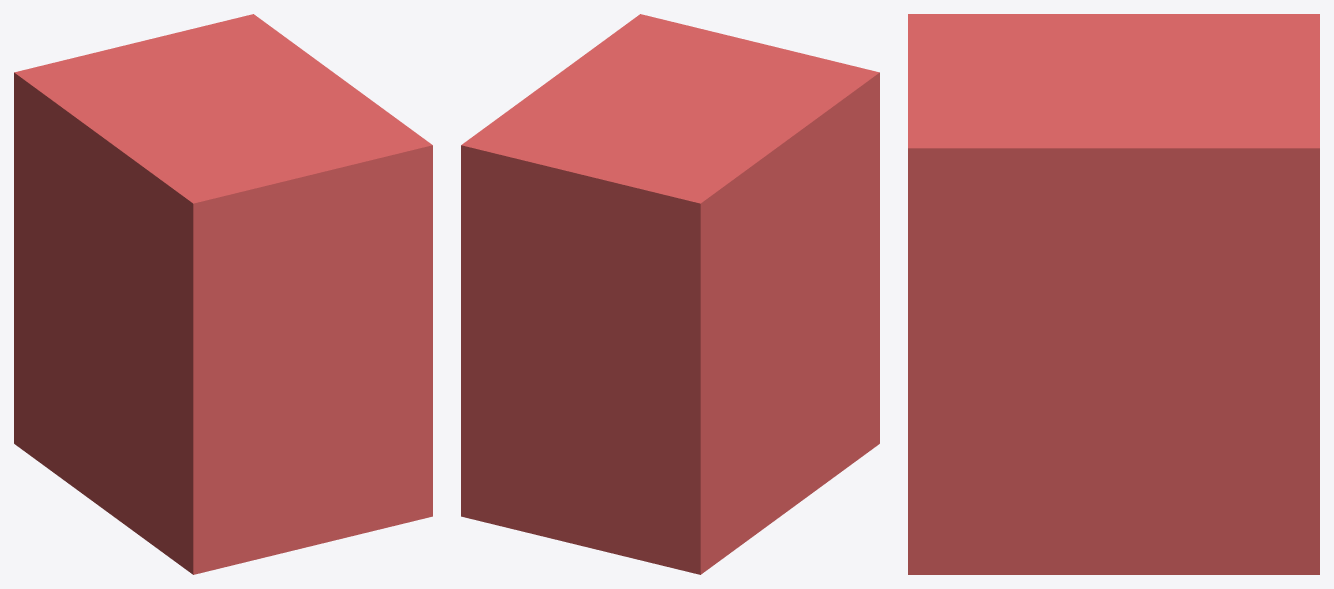
Rendered from NXB-63_D50_3P.glb.
3 renders of one model, left to right at view 1: azimuth 30°, elevation 25°; view 2: azimuth 150°, elevation 25°; view 3: azimuth 270°, elevation 25°, orthographic. The views are drawn at different scales.
Parts seen in each view (by area): view 1: NXB-63_D50_3P; view 2: NXB-63_D50_3P; view 3: NXB-63_D50_3P.
Part boxes in pixels (left/top/right/bottom): NXB-63_D50_3P: left=14, top=14, right=432, bottom=574; NXB-63_D50_3P: left=461, top=14, right=879, bottom=574; NXB-63_D50_3P: left=908, top=14, right=1319, bottom=574.
Bounding box in the file's own units: 54 × 80 × 70.
